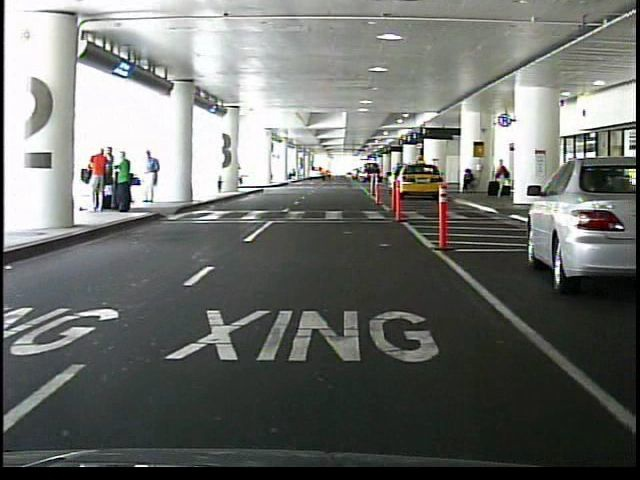person: (92, 148, 110, 213), (117, 152, 135, 216), (143, 152, 162, 208), (106, 146, 120, 210), (494, 160, 509, 200), (459, 170, 476, 197)
